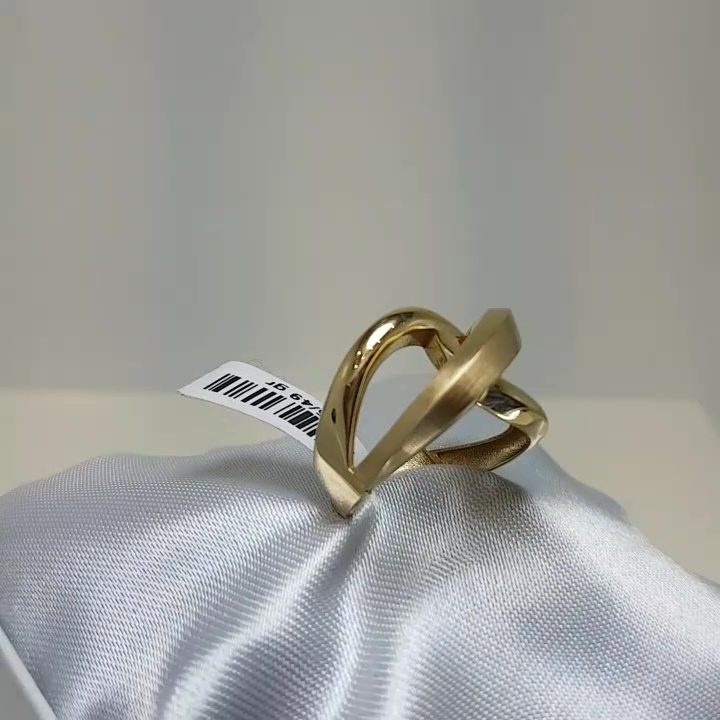Ring 3: (291, 263, 593, 526)
